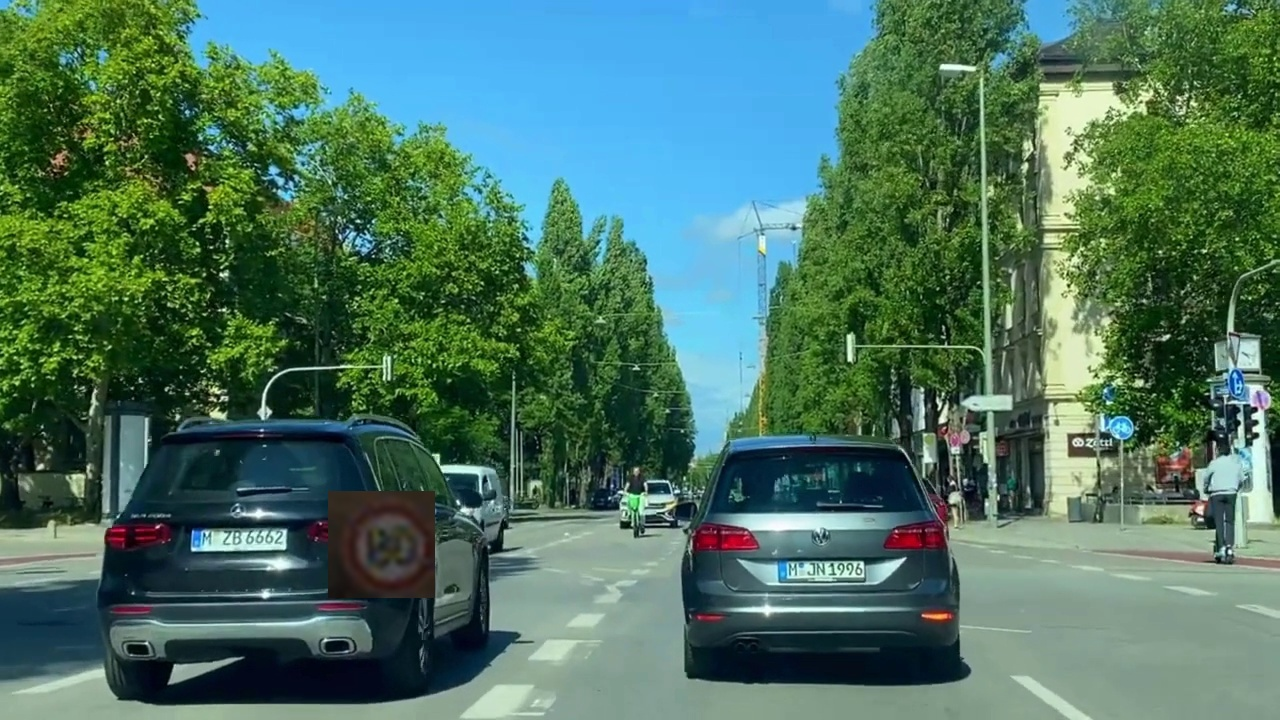Speed 80: (328, 491, 435, 598)
